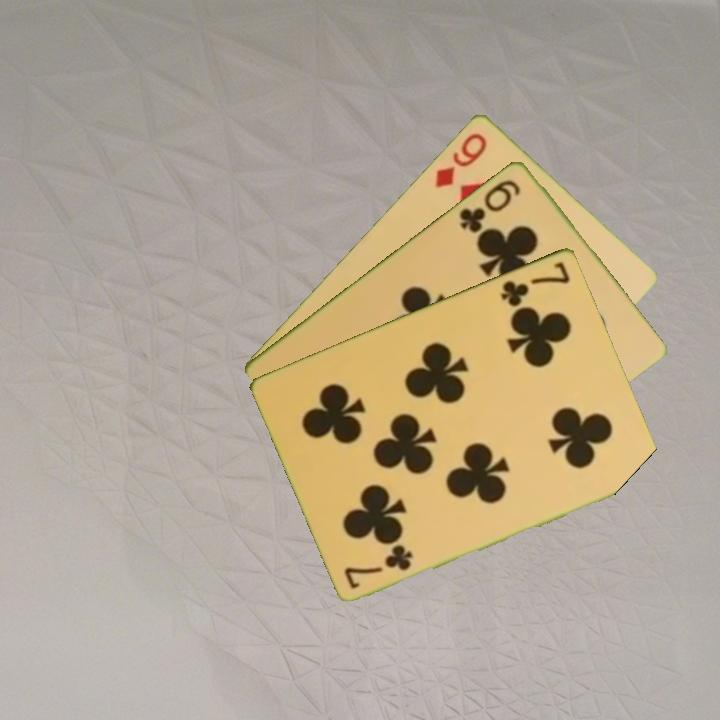6c: (455, 175, 524, 236)
7c: (497, 257, 573, 309), (341, 542, 416, 591)
9d: (431, 128, 490, 191)
